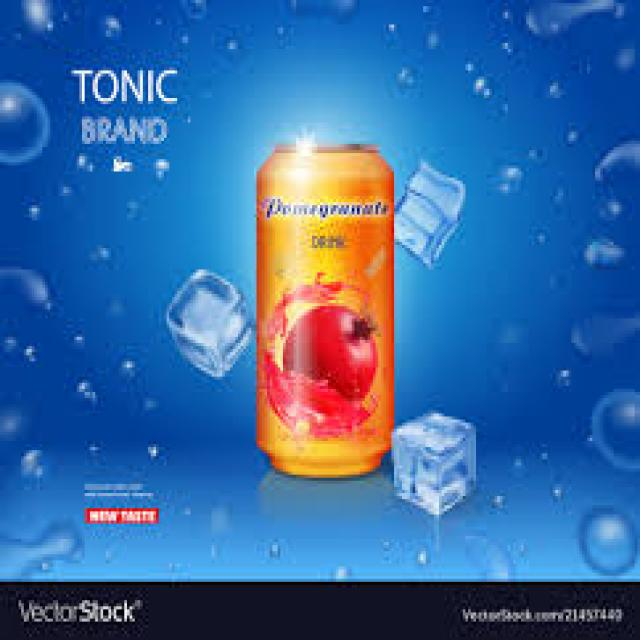Cans: (238, 116, 407, 484)
